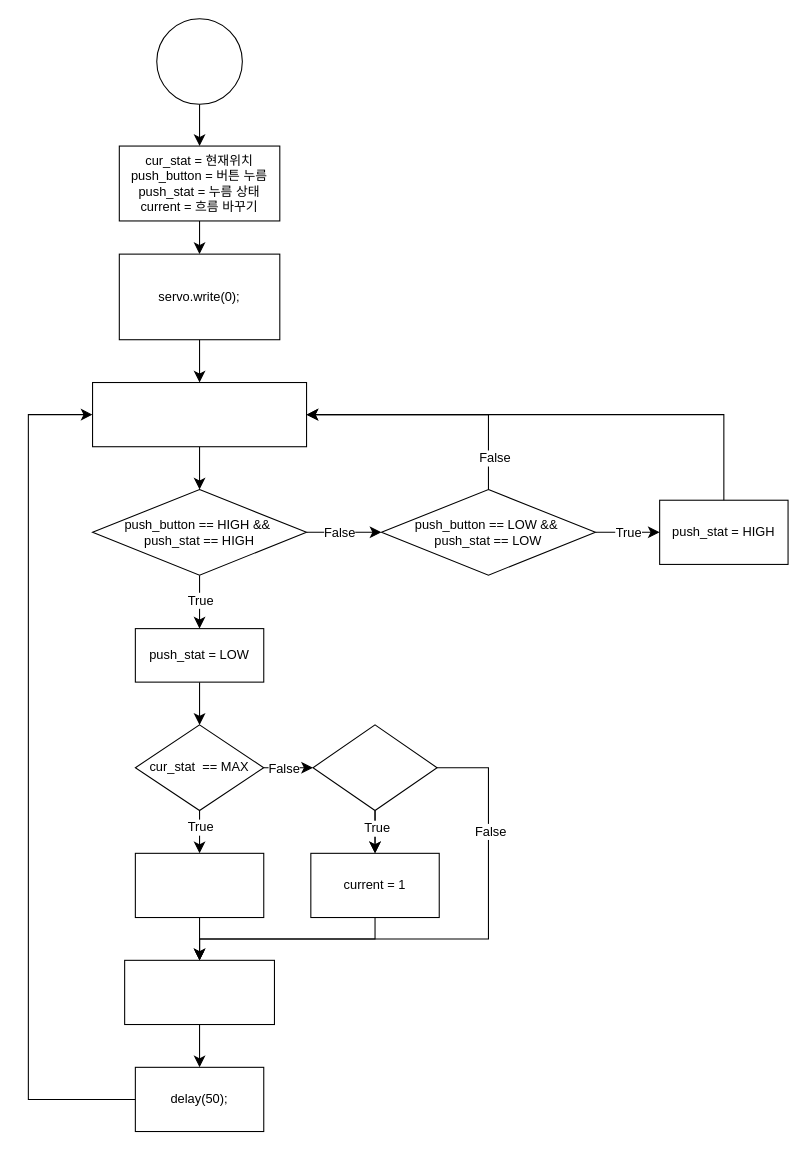
This 807x1150 diagram has some shape labels left out. Here are the shapes that lost their labels. From the top down, the centre of each, then its label:
the point at 199,414: int push_button = digitalRead(BUTTON);
the point at 374,767: cur_stat == MIN
the point at 199,885: current = -1
the point at 199,992: cur_stat += current * 10; servo.write(cur_stat);
